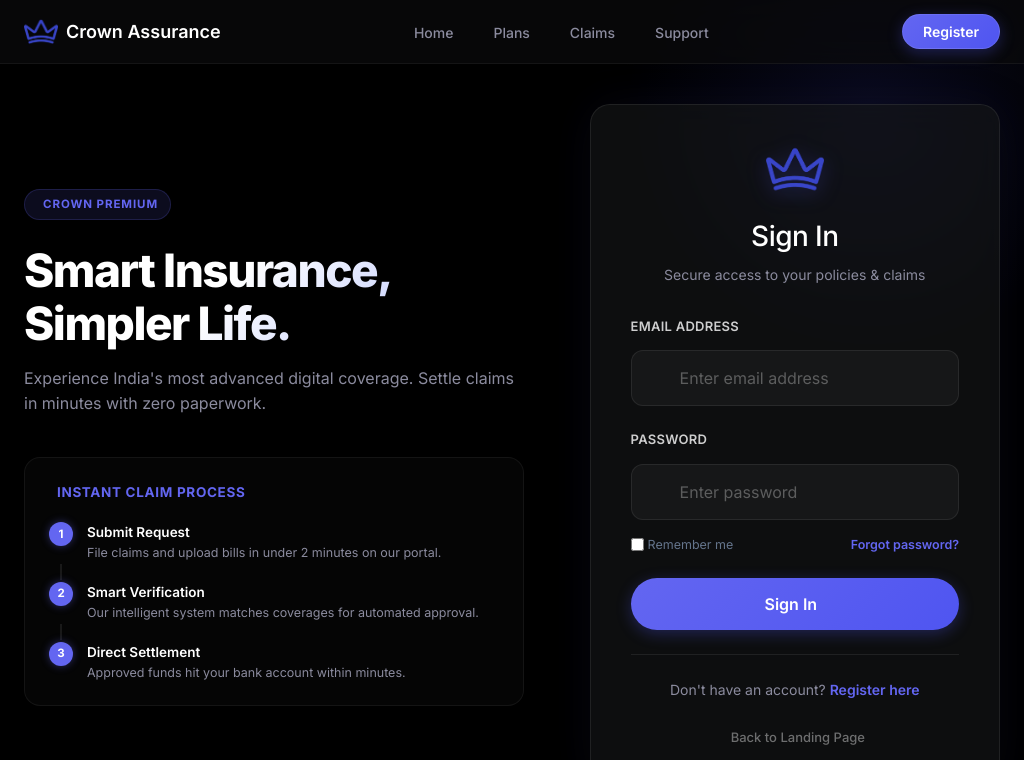
Scenario: Login Page › shows validation error for empty password
The width and height of the screenshot is (1024, 760).
Step 1. Type "test@test.com" into the field with placeholder "Enter email address" → coordinates (795, 378), box [631,350,959,406]
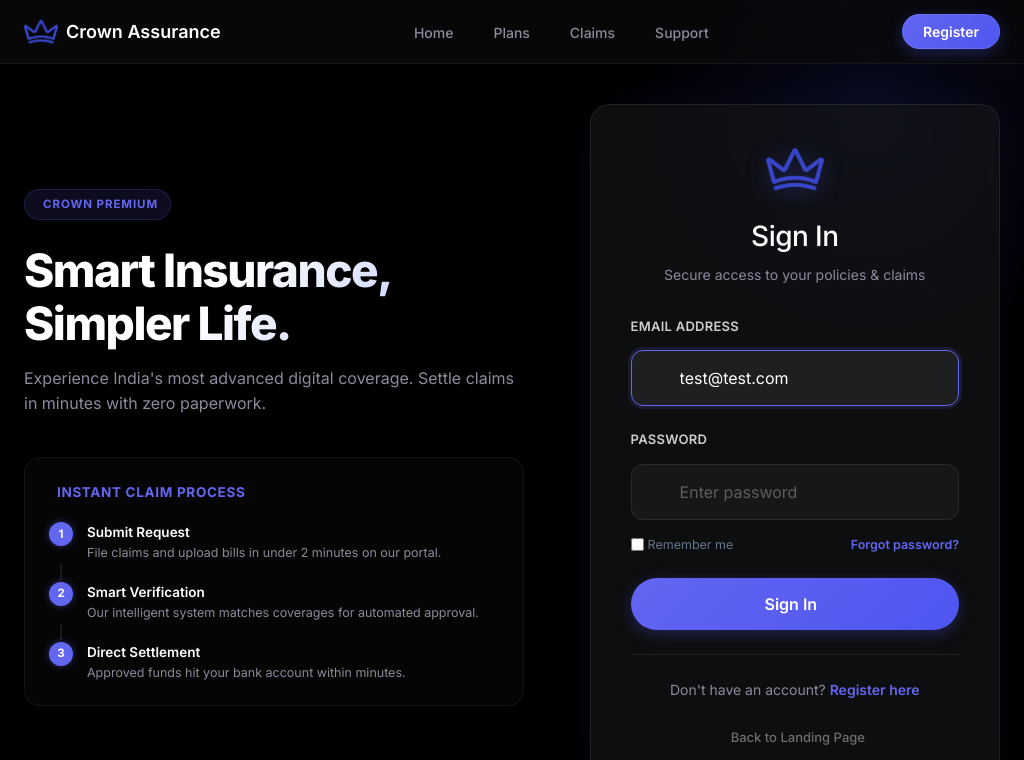
Step 2. Click the button "Sign In" → coordinates (795, 604), box [631,578,959,630]
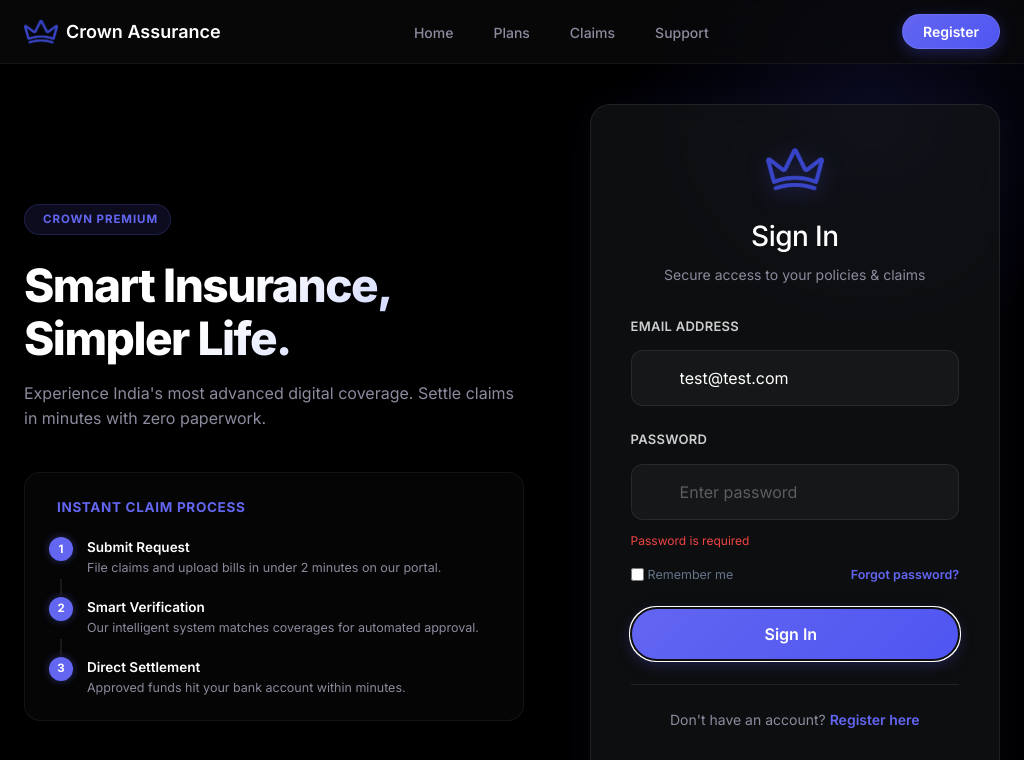
Check: the text "Password is required" is shown, box [631,533,750,548]
